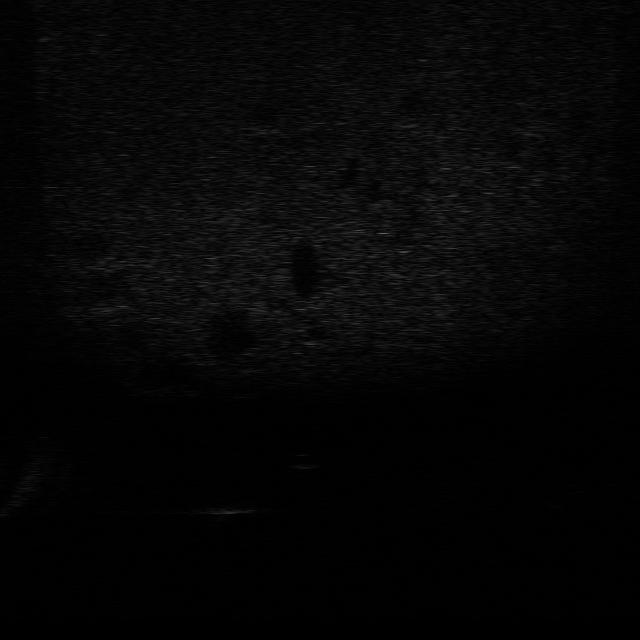ball: (275, 443, 330, 475)
square cage: (191, 495, 265, 526)
tyre: (542, 476, 592, 514)
